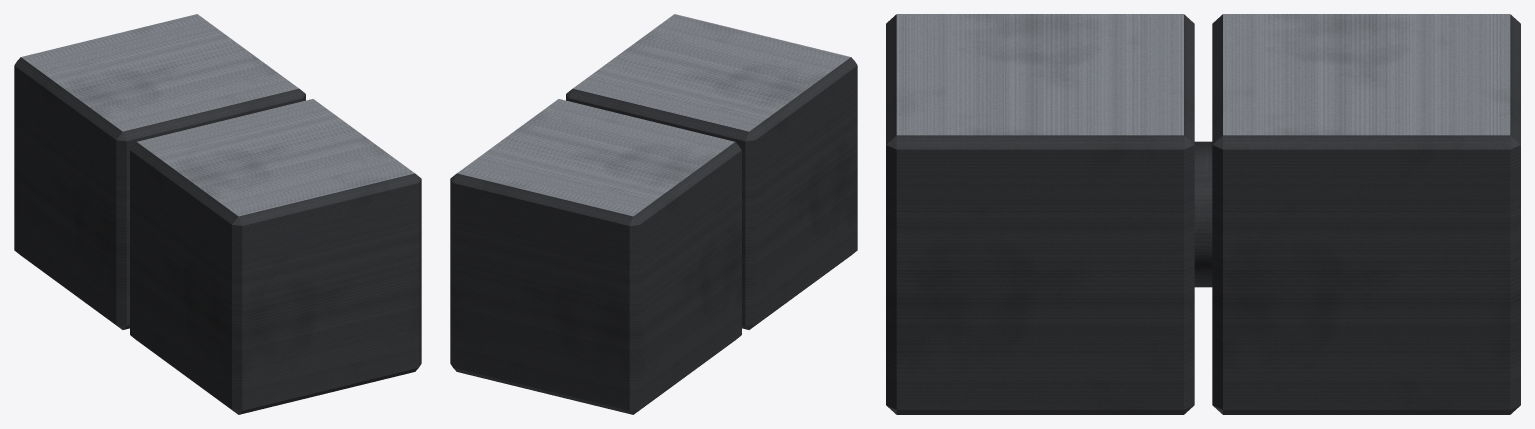
Rendered from R4C_STRUT_SHORT_LOD1.glb.
The picture shows the model from 3 angles, left to right: view 1: azimuth 30°, elevation 25°; view 2: azimuth 150°, elevation 25°; view 3: azimuth 270°, elevation 25°; orthographic projection. The views are drawn at different scales.
Visible parts, largest first — view 1: R4C_STRUT_SHORT_LOD1; view 2: R4C_STRUT_SHORT_LOD1; view 3: R4C_STRUT_SHORT_LOD1.
Part boxes in pixels (box(x1,y1,x2,y2)): R4C_STRUT_SHORT_LOD1: box(14, 14, 421, 414); R4C_STRUT_SHORT_LOD1: box(450, 14, 857, 414); R4C_STRUT_SHORT_LOD1: box(886, 14, 1520, 414).
Bounding box in the file's own units: 0.52 × 0.52 × 1.07.
3 materials, 3 textured.
